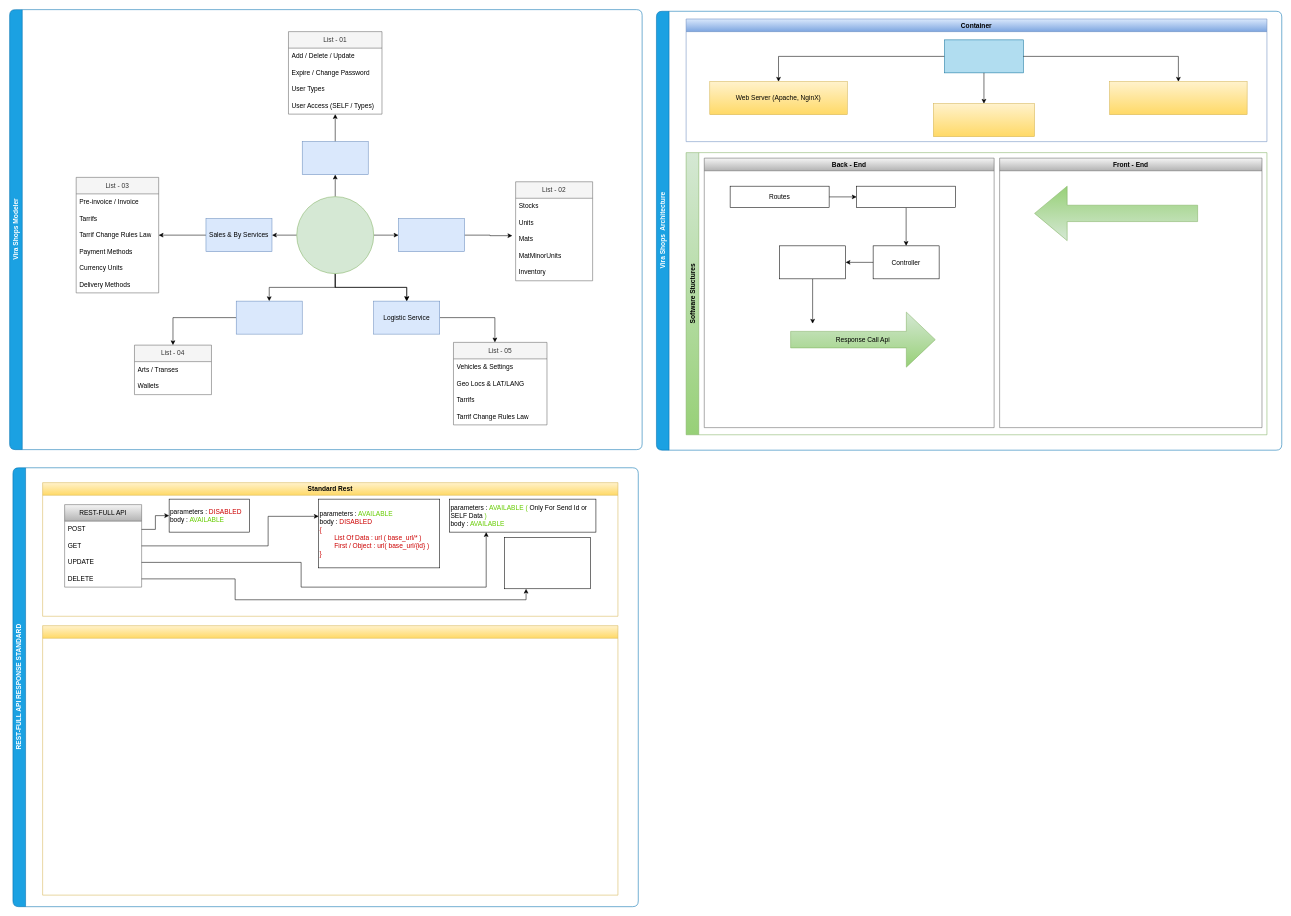
The diagram is 1291 pixels wide and 916 high, and some of its shapes have lost their labels. The shapes that lost their labels are listed below. From the top down, each one's centre as x and y in pixels, then its label:
At (983,56): "Server (Default Ubuntu)".
At (1178,98): "Database (Relational like MySql, PostgreSql, MsSql , ...)".
At (984,120): "Fire Wall (Security)".
At (335,158): "Users Services".
At (906,197): "MiddleWare".
At (1116,213): "Call REST-FULL Api".
At (335,235): "Vira Shops MicroServices".
At (431,235): "Stocks & Inventory Services".
At (812,262): "Resources".
At (269,317): "Receive & Pay Money".
At (547,563): "parameters : AVAILABLE body : DISABLED { url : base_url/{id} }".
At (330,760): "API Response ( HATEOAS STandard )".
